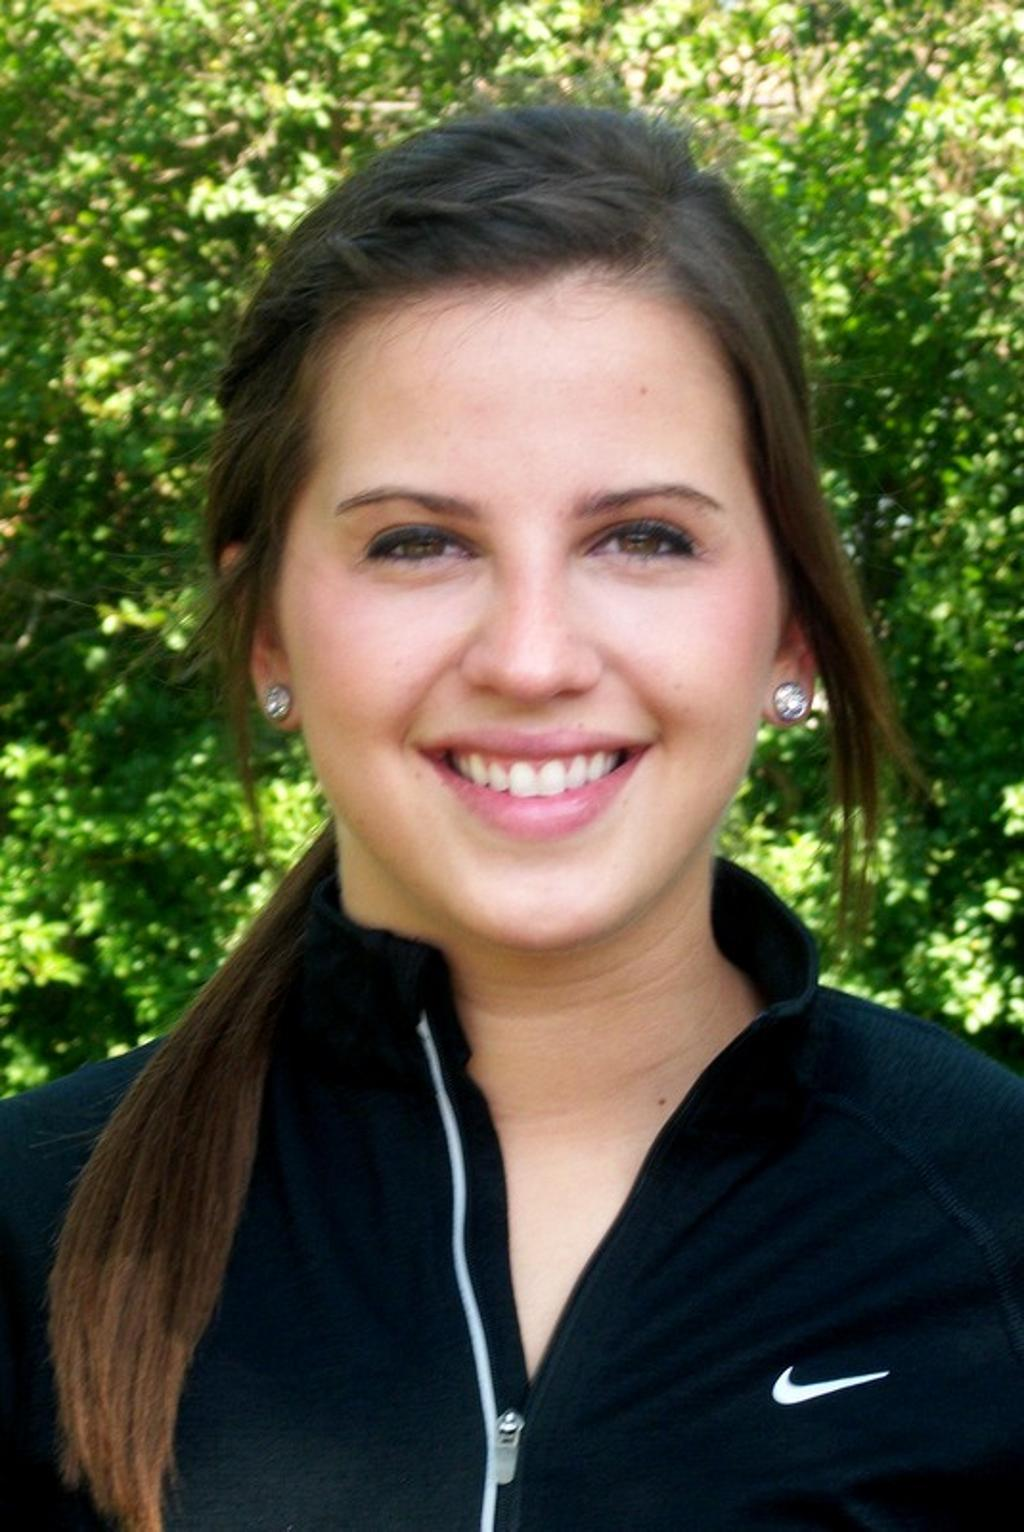face: (279, 285, 785, 944)
